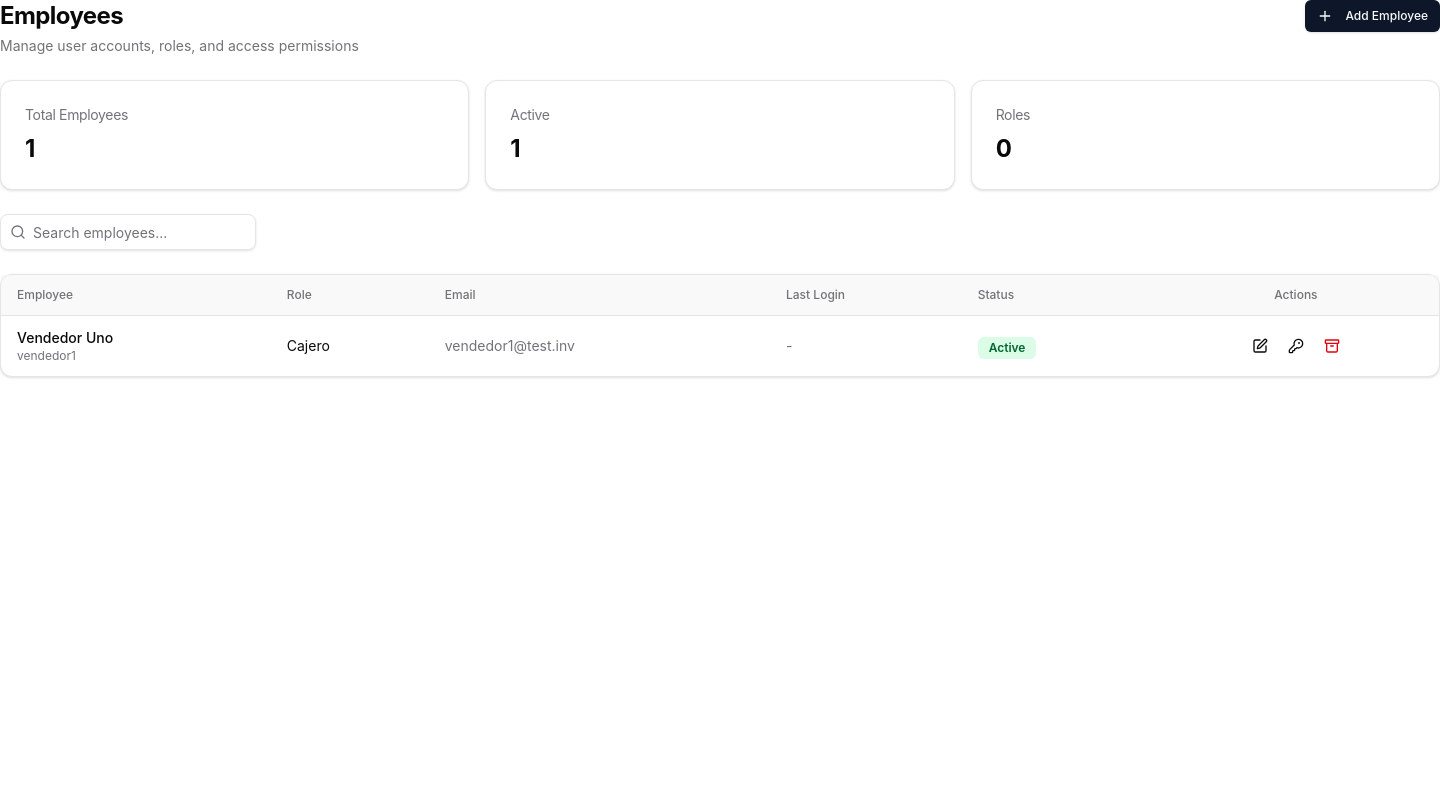
Test: EmployeesPage — reset password › asks for confirmation and explains the shared default
Expected: the text "Vendedor Uno" is shown, [17,329,113,346]
Click the button named "Reset Password": (1296, 346) [1280,330,1312,362]
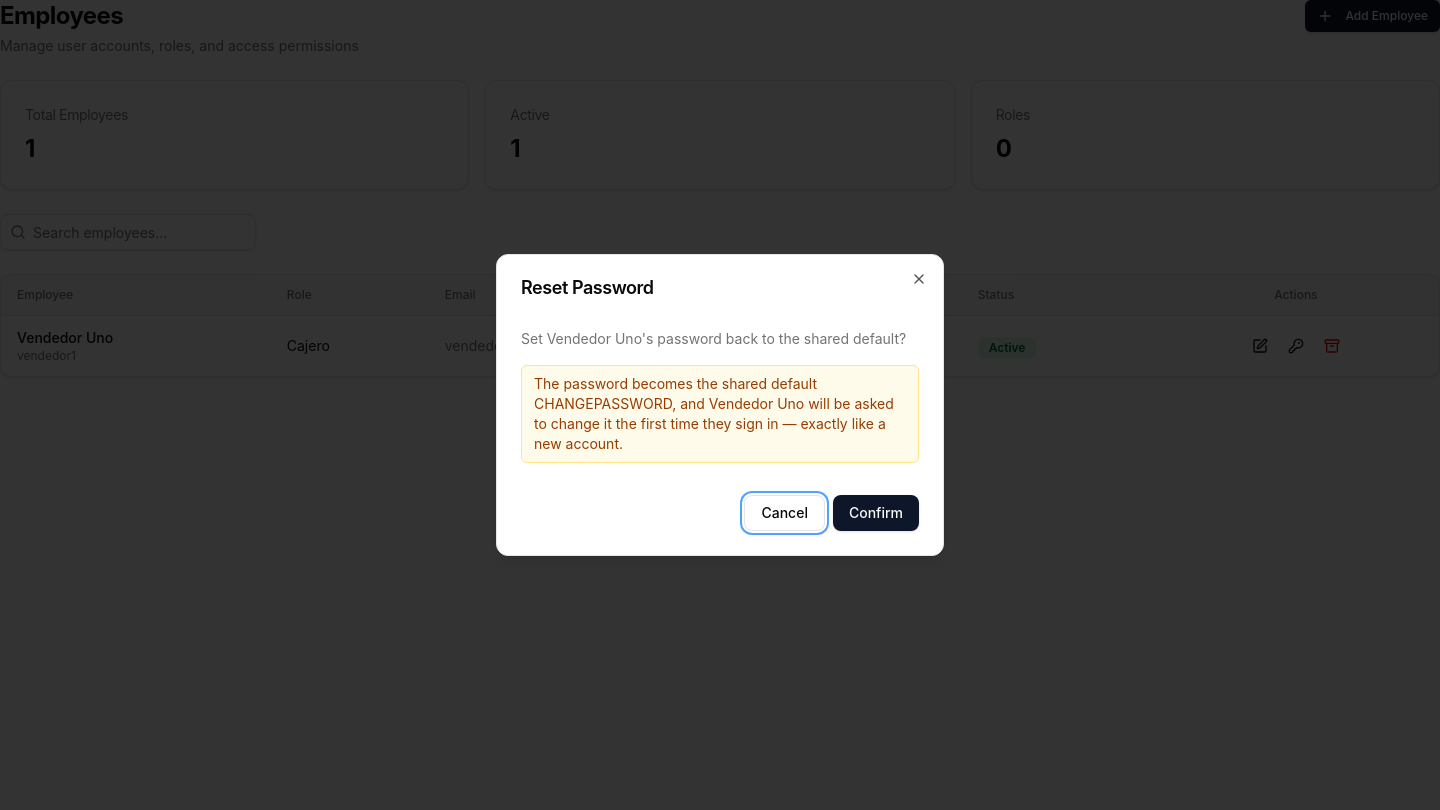
Now the heading "Reset Password" is shown, box [521,277,654,298]
Now the text "Set Vendedor Uno's password back to the shared default?" is shown, box [521,329,919,349]
Now the text "CHANGEPASSWORD" is shown, box [534,375,894,452]
